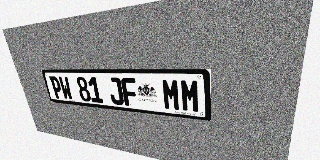1: (86, 77, 103, 103)
8: (75, 77, 92, 102)
F: (121, 78, 139, 107)
J: (107, 77, 125, 105)
M: (180, 79, 200, 113), (161, 79, 181, 111)
P: (49, 76, 64, 99)
W: (58, 76, 73, 100)
